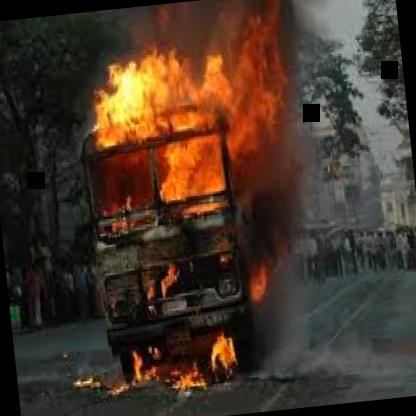fire: (67, 9, 296, 328)
